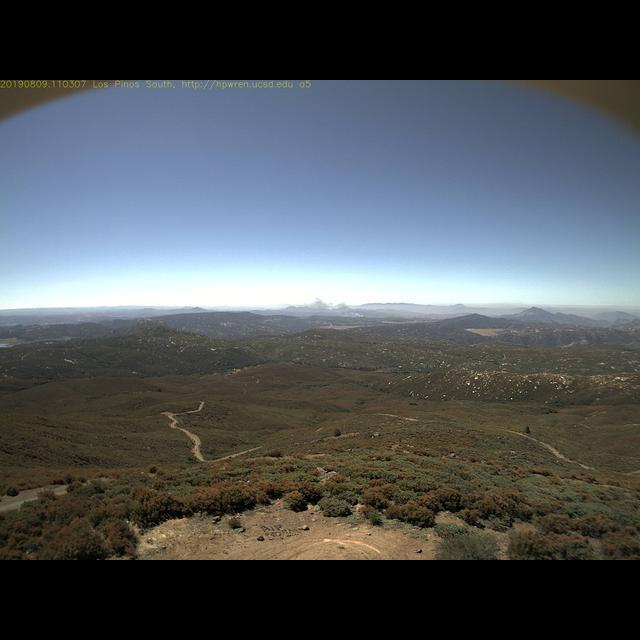Smoke: (271, 294, 366, 320)
